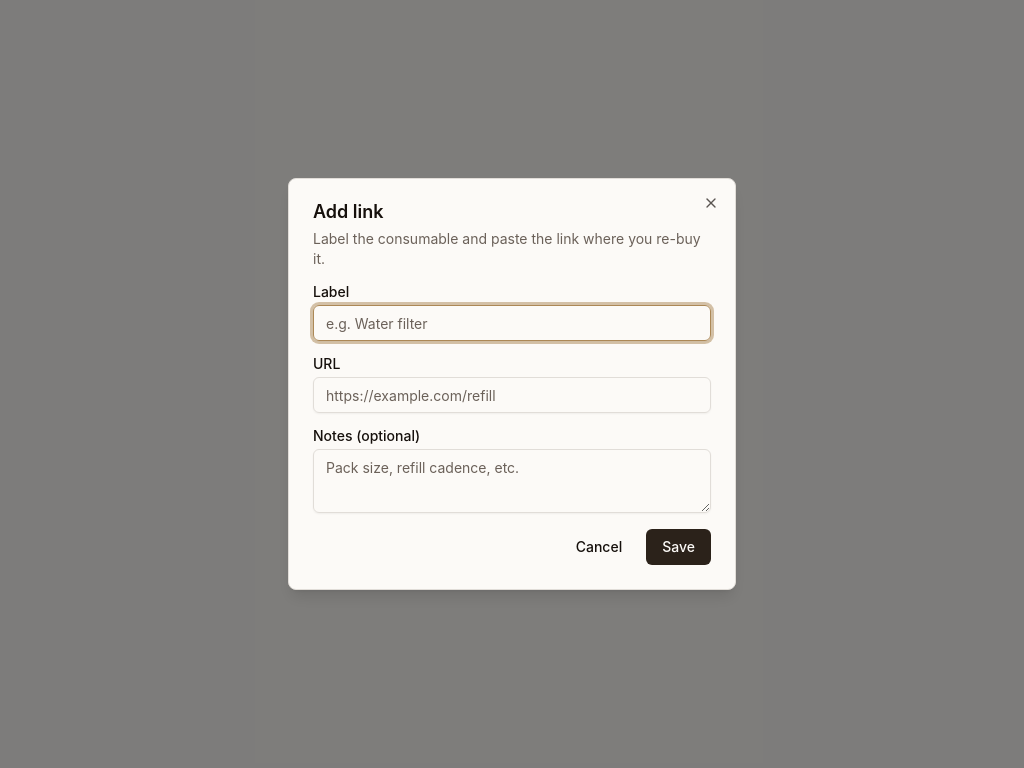
Test: <SupplyLinkDialog /> › rejects a URL without scheme
Type "Water filter" into the field with test id "supply-link-label-input".
click(512, 323); type("Water filter")  # box [313, 305, 711, 341]
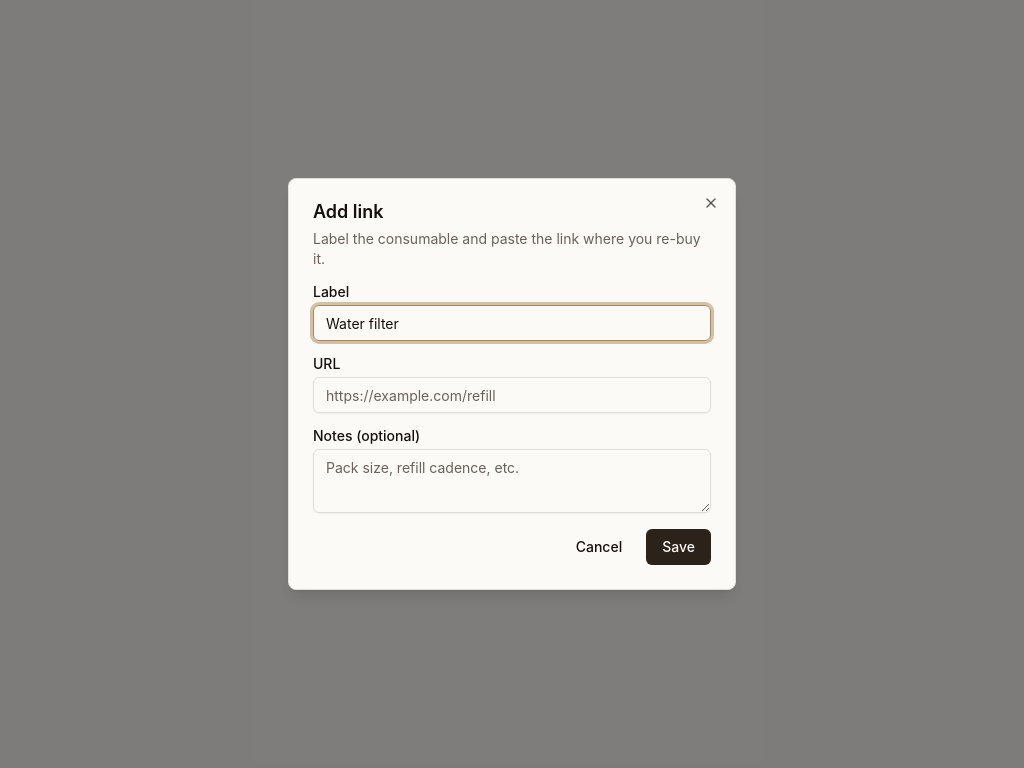
Type "example.com/no-scheme" into the field with test id "supply-link-url-input".
click(512, 395); type("example.com/no-scheme")  # box [313, 377, 711, 413]
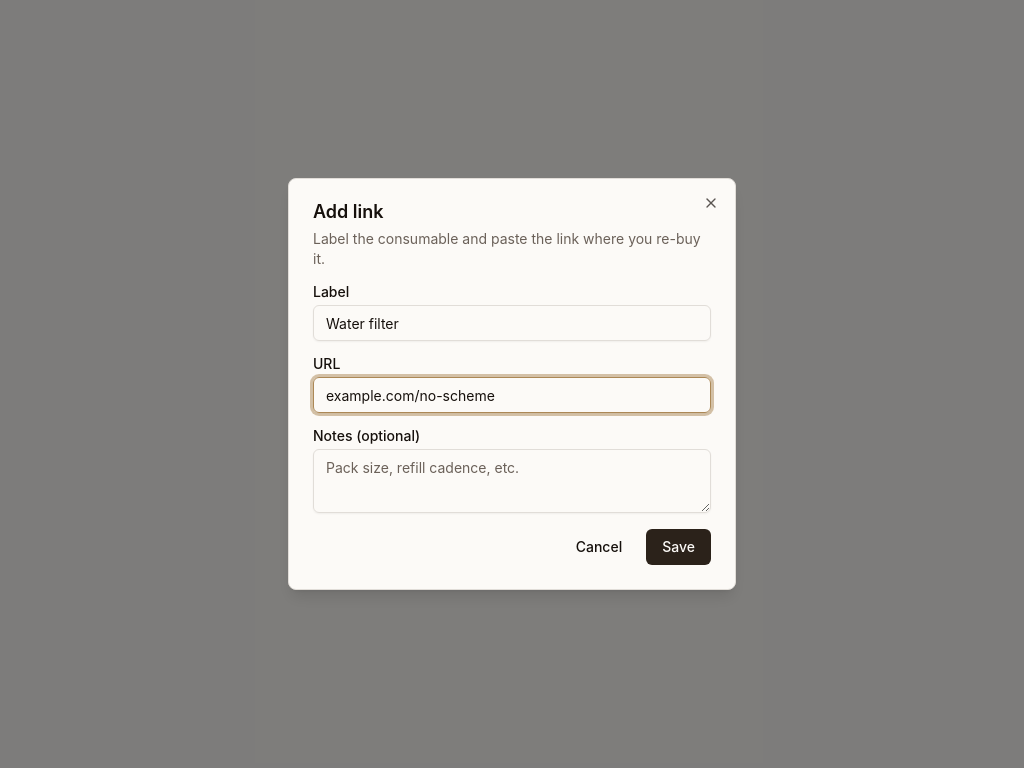
Click the button with test id "supply-link-submit".
click(679, 547)  # box [646, 529, 711, 565]
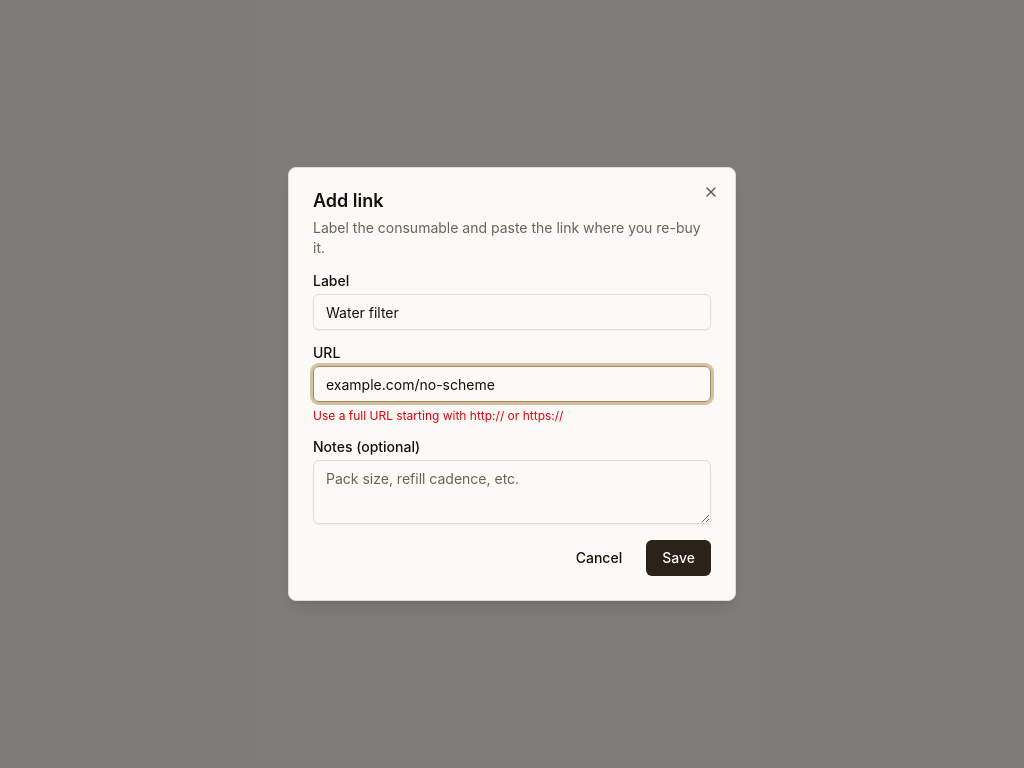
expect the text "Use a full URL starting with http:// or https://" is shown: met, box [313, 408, 563, 423]
